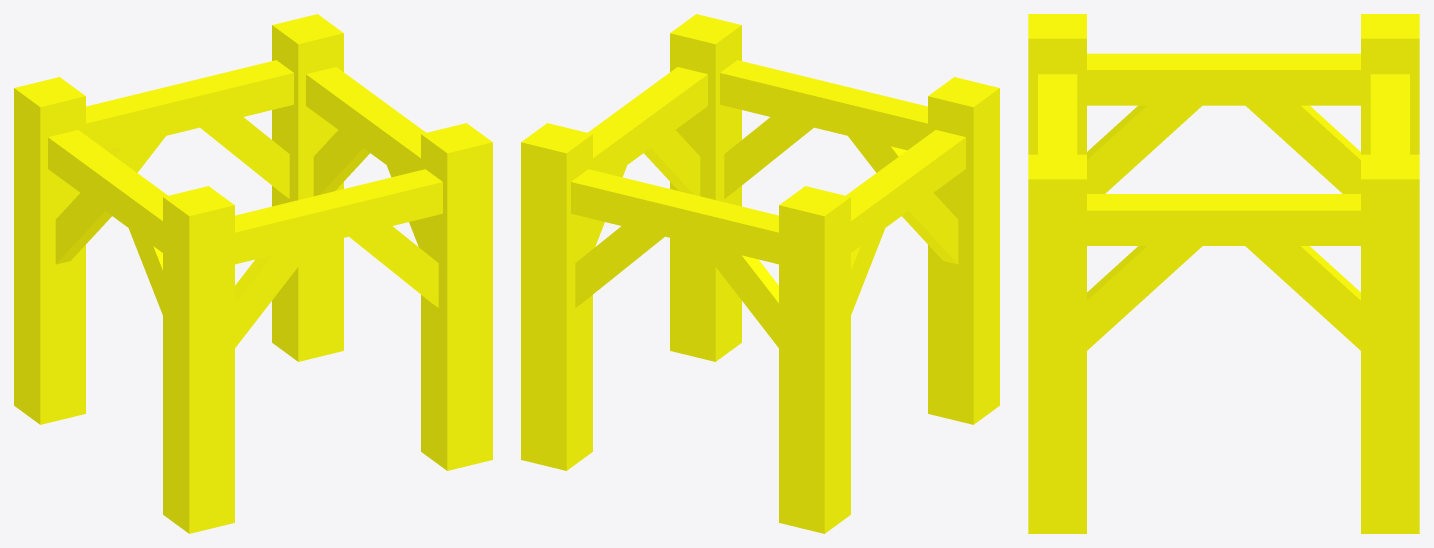
File: _fbx_all_building-structure.glb
The picture shows the model from 3 angles, left to right: view 1: azimuth 30°, elevation 25°; view 2: azimuth 150°, elevation 25°; view 3: azimuth 270°, elevation 25°; orthographic projection. The views are drawn at different scales.
Parts seen in each view (by area): view 1: building-structure; view 2: building-structure; view 3: building-structure.
Boxes of the visible parts, box(x1,y1,x2,y2) form: building-structure: box(14, 14, 492, 533); building-structure: box(521, 14, 999, 533); building-structure: box(1028, 14, 1419, 533).
Bounding box in the file's own units: 1 × 1 × 1.
1 material, 1 textured.
